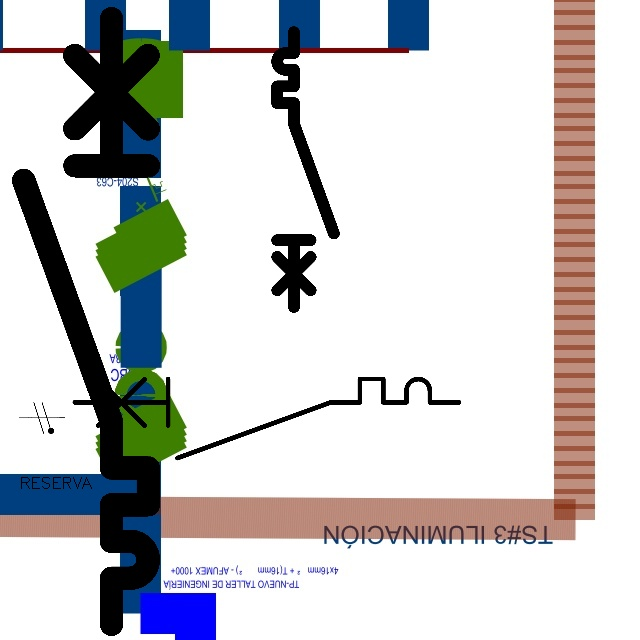interruptor_termomagnetico: (8, 3, 164, 640), (64, 369, 468, 468), (270, 25, 340, 314)
